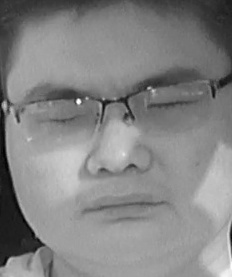blink: (145, 98, 186, 114), (47, 111, 83, 126)
glass: (15, 94, 105, 148), (123, 80, 215, 132)
mouth: (83, 188, 161, 224)
